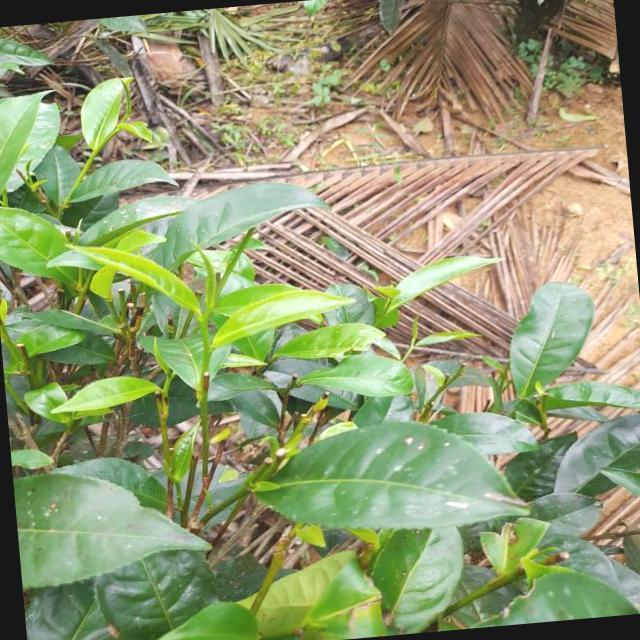Stem: (200, 317, 207, 324)
